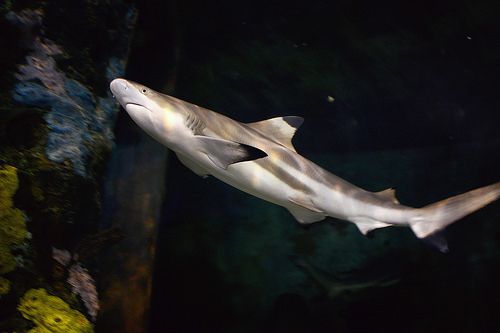shark: (89, 47, 495, 264)
